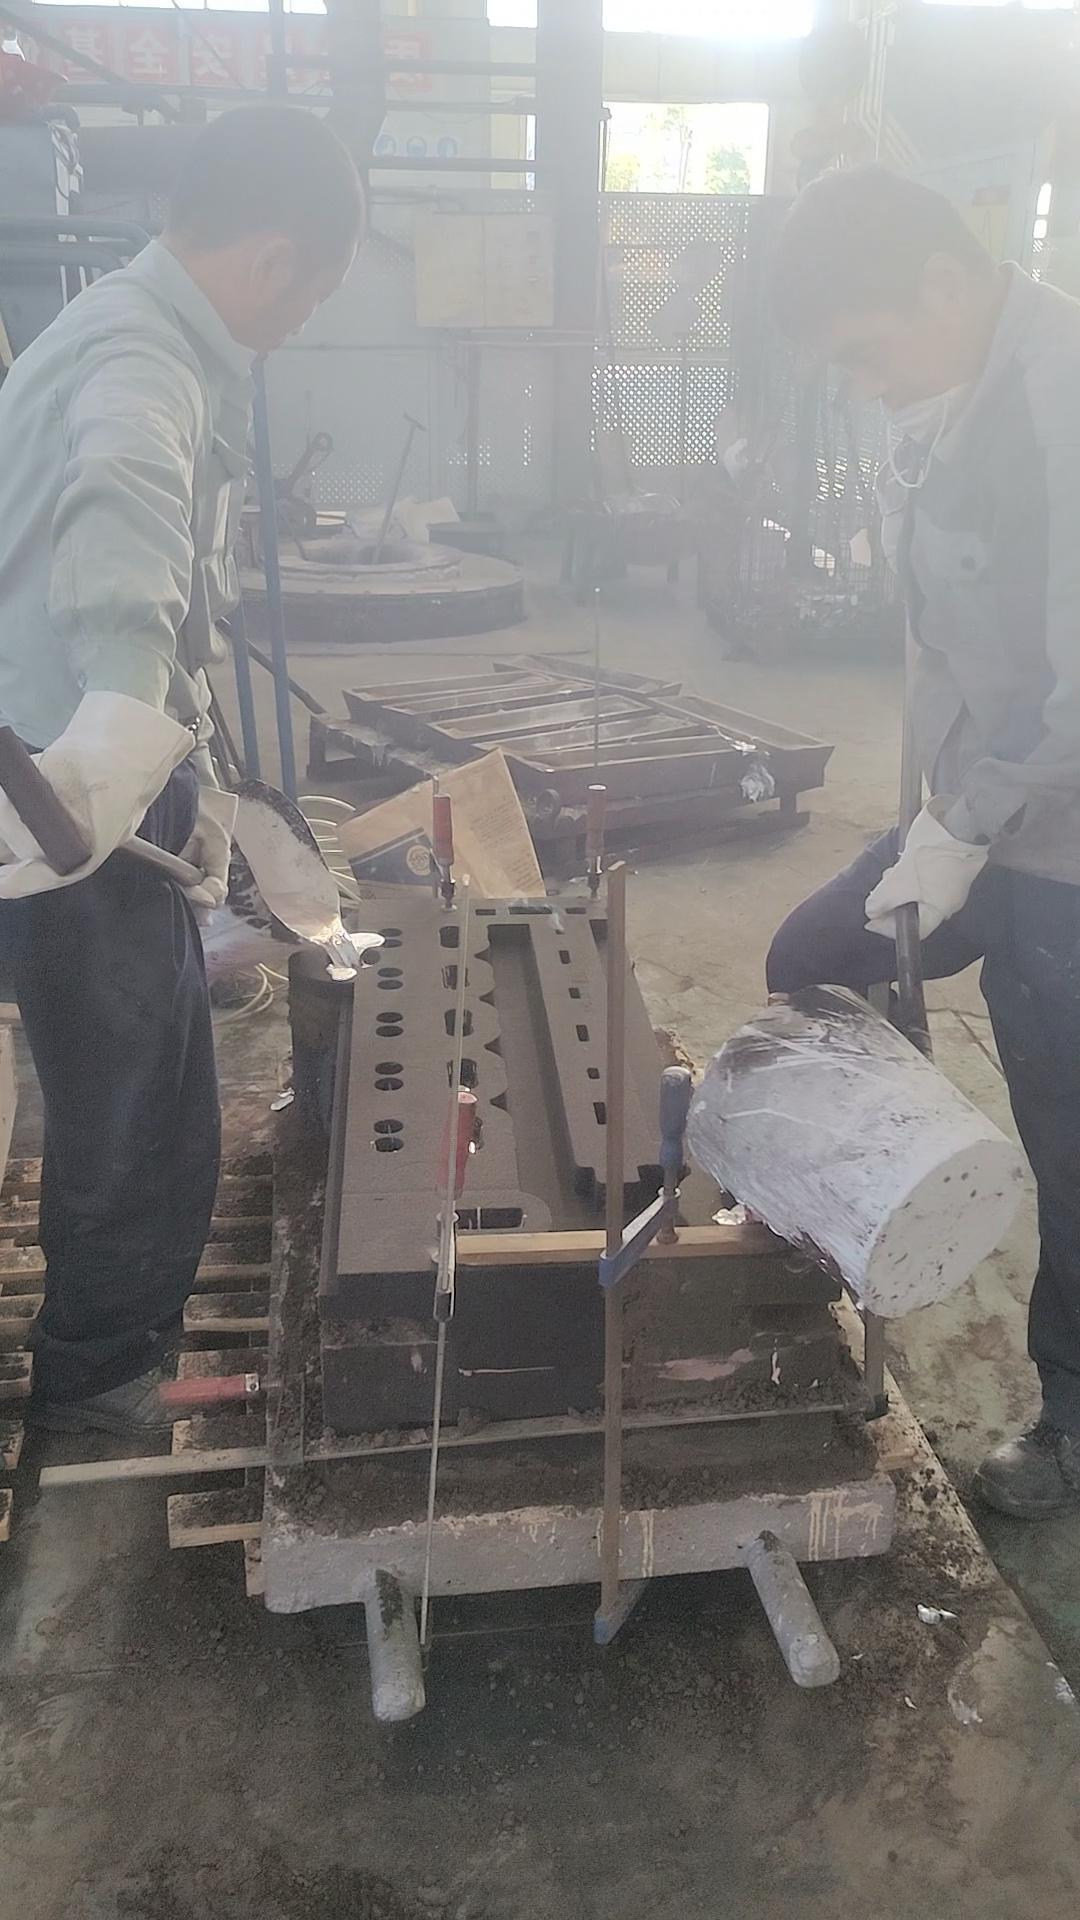pouring hole: (717, 1199, 773, 1228), (322, 948, 377, 969)
